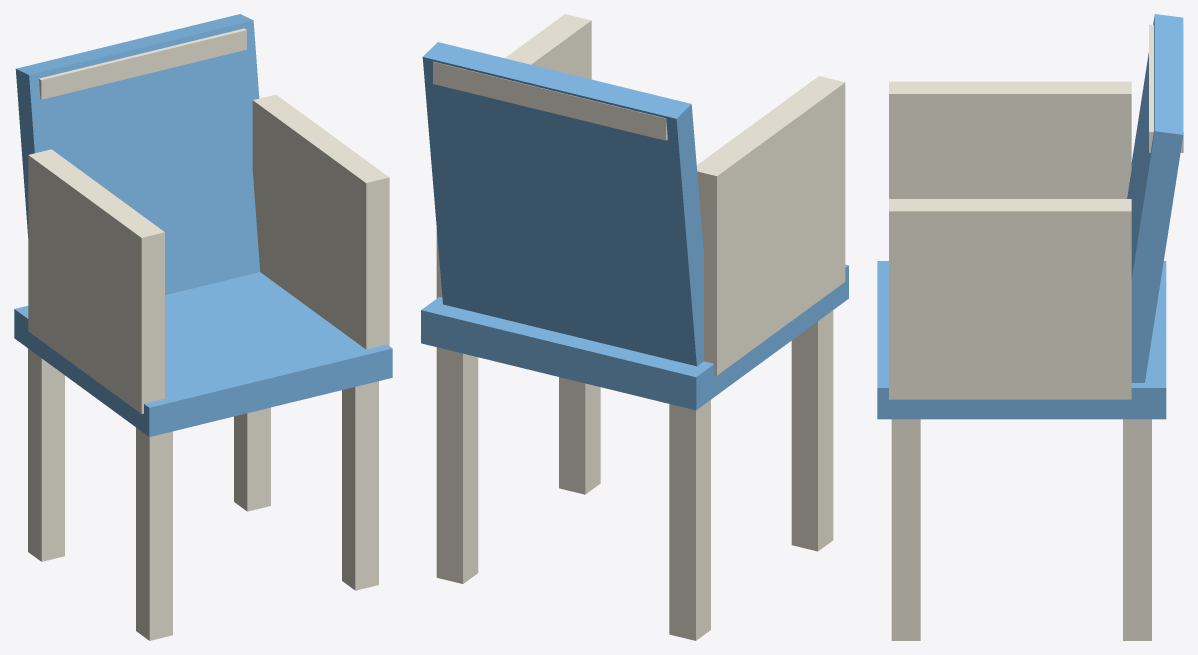
File: lawn-mowing-simulator-kit-patio-chair-bdbef297__27400.glb
3 renders of one model, left to right at view 1: azimuth 30°, elevation 25°; view 2: azimuth 150°, elevation 25°; view 3: azimuth 270°, elevation 25°, orthographic. The views are drawn at different scales.
Visible parts, largest first — view 1: patio-chair; view 2: patio-chair; view 3: patio-chair.
Part boxes in pixels (bbox=[...]): patio-chair: bbox=[14, 14, 392, 640]; patio-chair: bbox=[421, 14, 848, 640]; patio-chair: bbox=[877, 14, 1183, 640].
Size of the model in its own units: 0.53 by 0.971 by 0.53.
